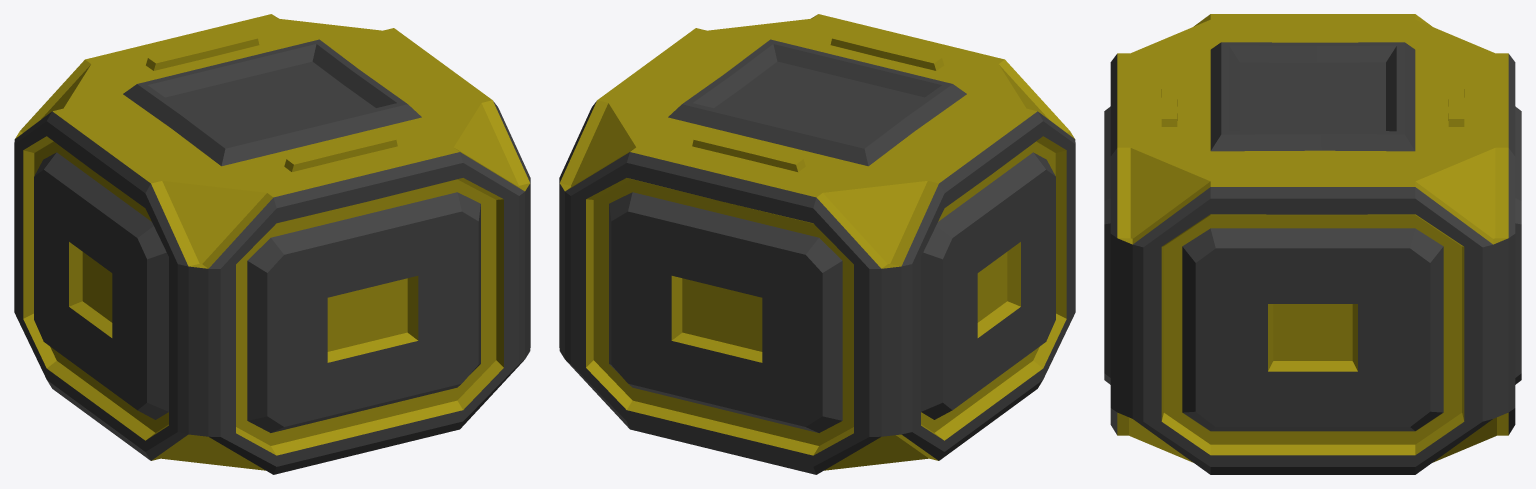
Rendered from 8-Ammo.FBX.
3 views of the same model, side by side, from view 1: azimuth 30°, elevation 25°; view 2: azimuth 150°, elevation 25°; view 3: azimuth 270°, elevation 25° (orthographic). The views are drawn at different scales.
Visible parts, largest first — view 1: ammoPickup_Low; view 2: ammoPickup_Low; view 3: ammoPickup_Low.
Part boxes in pixels (x1,y1,x2,y2): ammoPickup_Low: (14, 14, 530, 474); ammoPickup_Low: (559, 14, 1075, 474); ammoPickup_Low: (1104, 14, 1521, 474).
Size of the model in its own units: 1.64 by 1.24 by 1.57.
